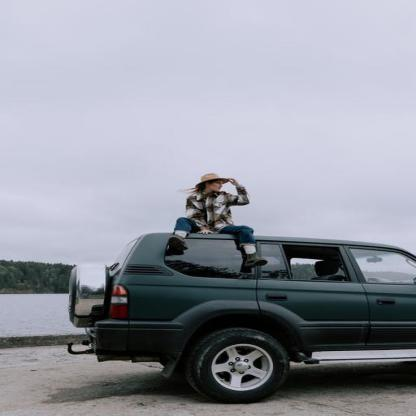Tire: (181, 324, 289, 404)
